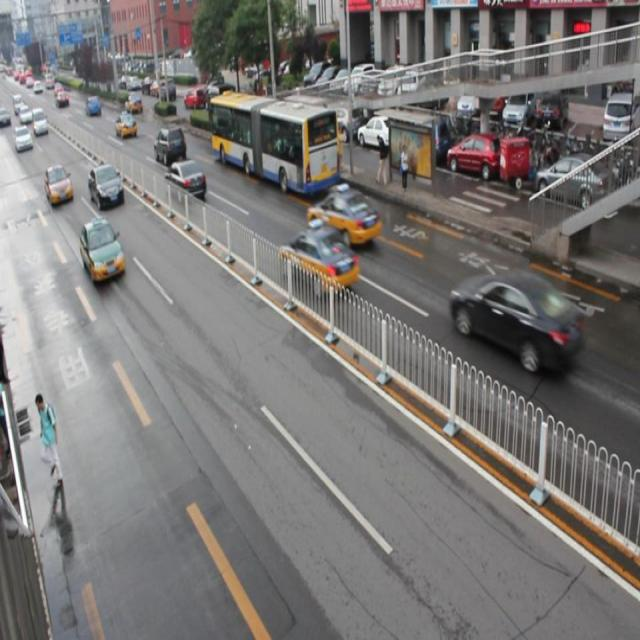car: (449, 268, 582, 372), (278, 224, 358, 292), (306, 184, 381, 246), (80, 215, 125, 282), (163, 159, 206, 200), (88, 165, 124, 208), (154, 126, 186, 166), (44, 163, 73, 207)
van: (208, 91, 339, 195)
